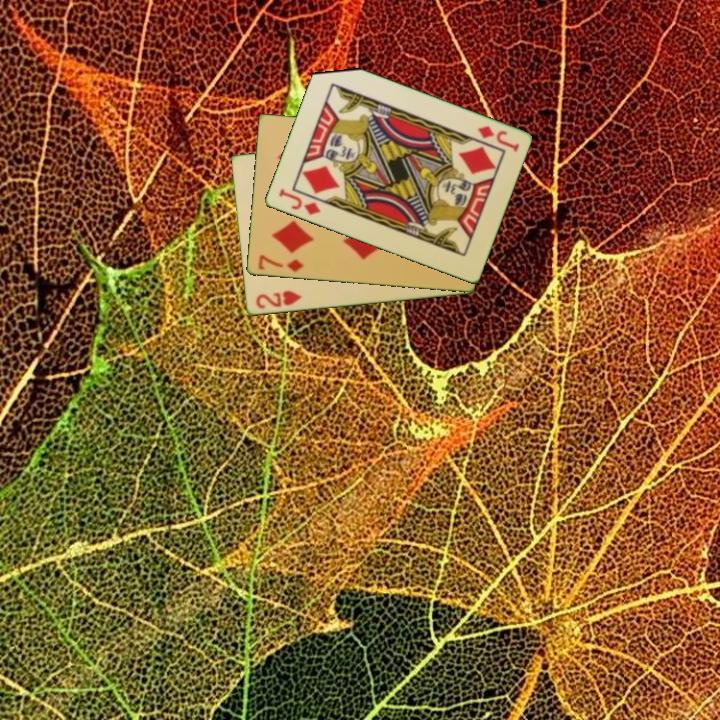2h: (252, 287, 304, 312)
7d: (255, 251, 306, 275)
Jd: (473, 122, 522, 155), (275, 185, 323, 218)
